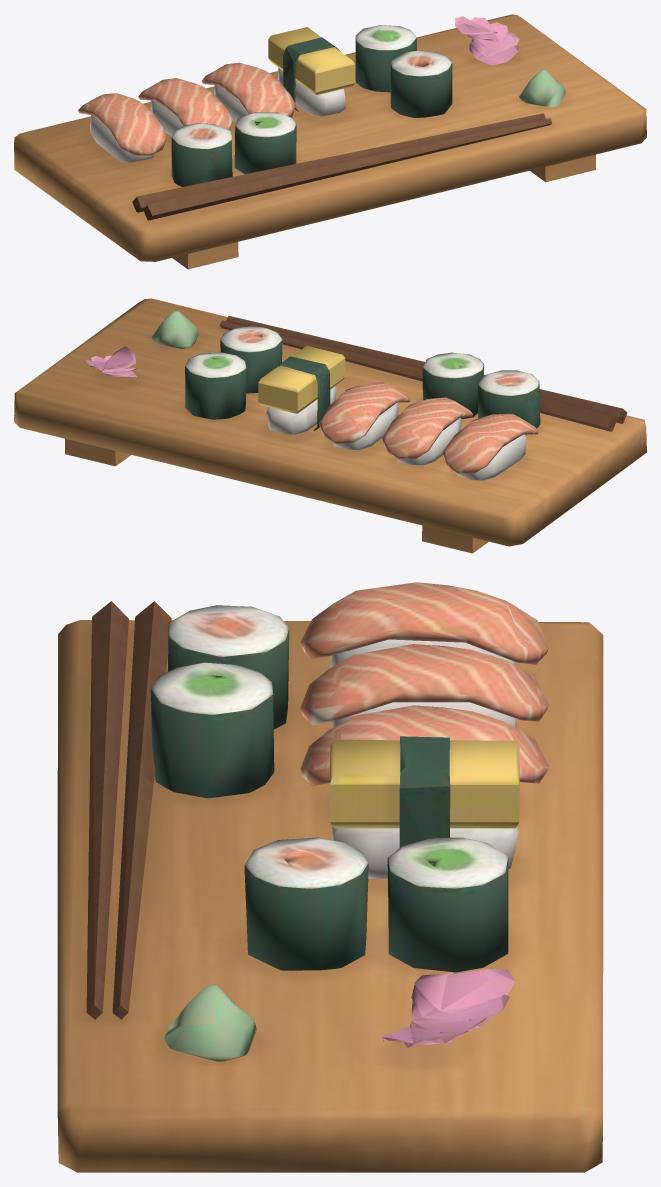
Rendered from food-sushi-set.glb.
3 views of the same model, one above another, from view 1: azimuth 30°, elevation 25°; view 2: azimuth 150°, elevation 25°; view 3: azimuth 270°, elevation 25° (orthographic). The views are drawn at different scales.
Parts seen in each view (by area): view 1: sushi-set_body; view 2: sushi-set_body; view 3: sushi-set_body.
Boxes of the visible parts, x1,y1,x2,y2 form: sushi-set_body: [14, 14, 646, 269]; sushi-set_body: [14, 298, 646, 553]; sushi-set_body: [57, 582, 603, 1172].
Bounding box in the file's own units: 4.6 × 0.9576 × 2.14.
1 material, 1 textured.
